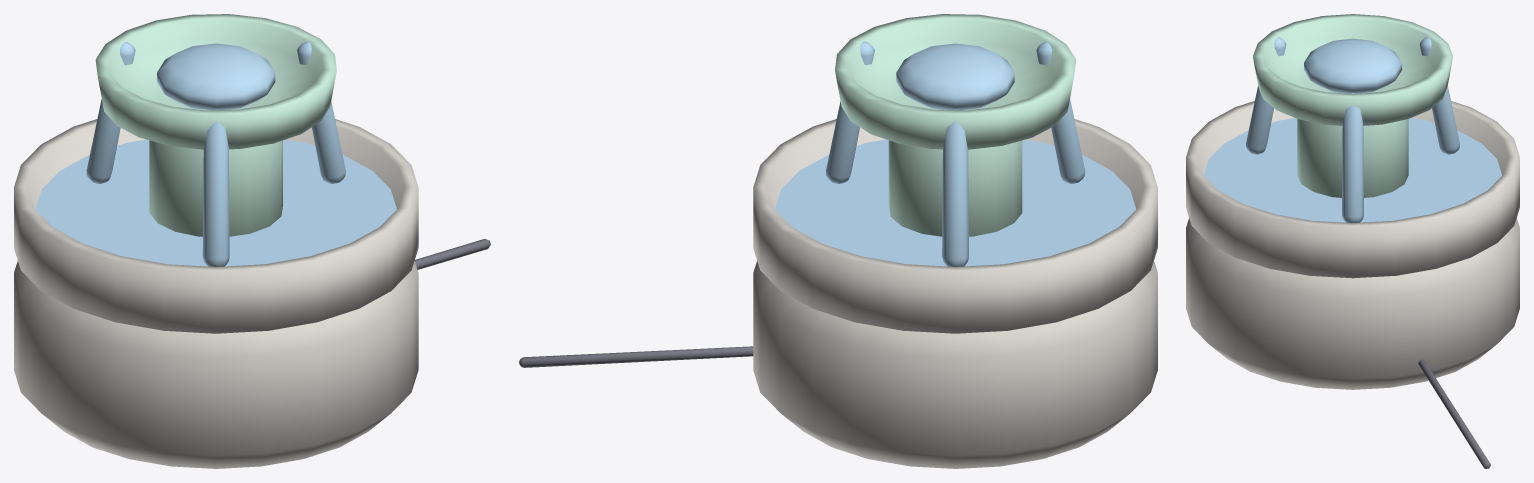
Rendered from companion-animals-and-pet-home-water-fountain-8b38ac17__20638.glb.
3 views of the same model, side by side, from view 1: azimuth 30°, elevation 25°; view 2: azimuth 150°, elevation 25°; view 3: azimuth 270°, elevation 25° (orthographic). The views are drawn at different scales.
Visible parts, largest first — view 1: water-fountain; view 2: water-fountain; view 3: water-fountain.
Part boxes in pixels (x1,y1,x2,y2): water-fountain: [14, 14, 490, 468]; water-fountain: [519, 14, 1157, 468]; water-fountain: [1186, 14, 1519, 468].
Bounding box in the file's own units: 0.454 × 0.278 × 0.3.
